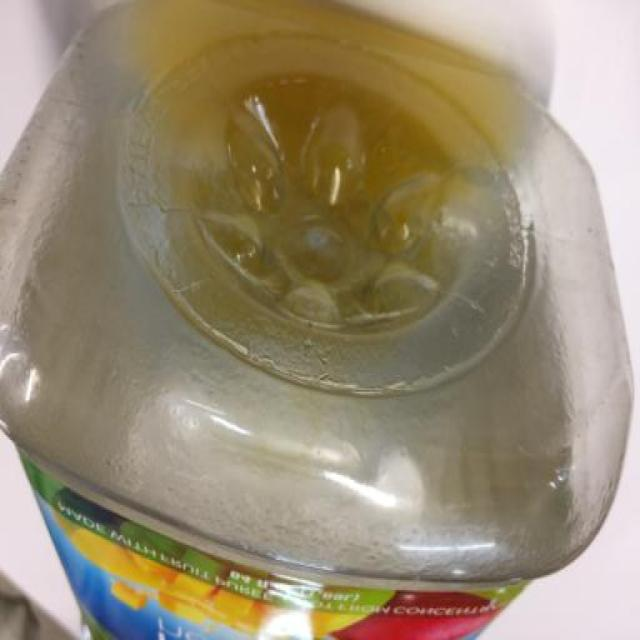Plastic: (0, 0, 639, 640)
